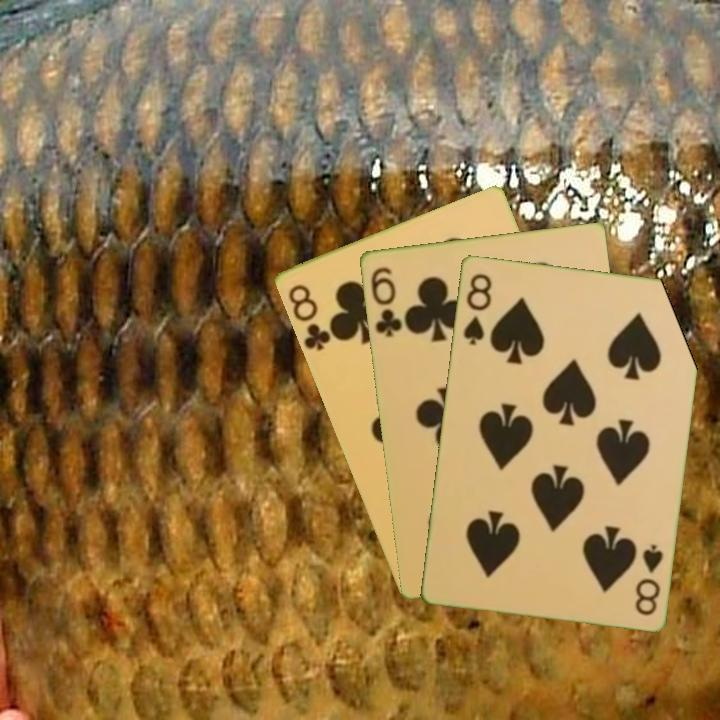6c: (366, 262, 404, 340)
8c: (284, 280, 337, 353)
8s: (459, 270, 494, 348), (631, 540, 666, 618)
